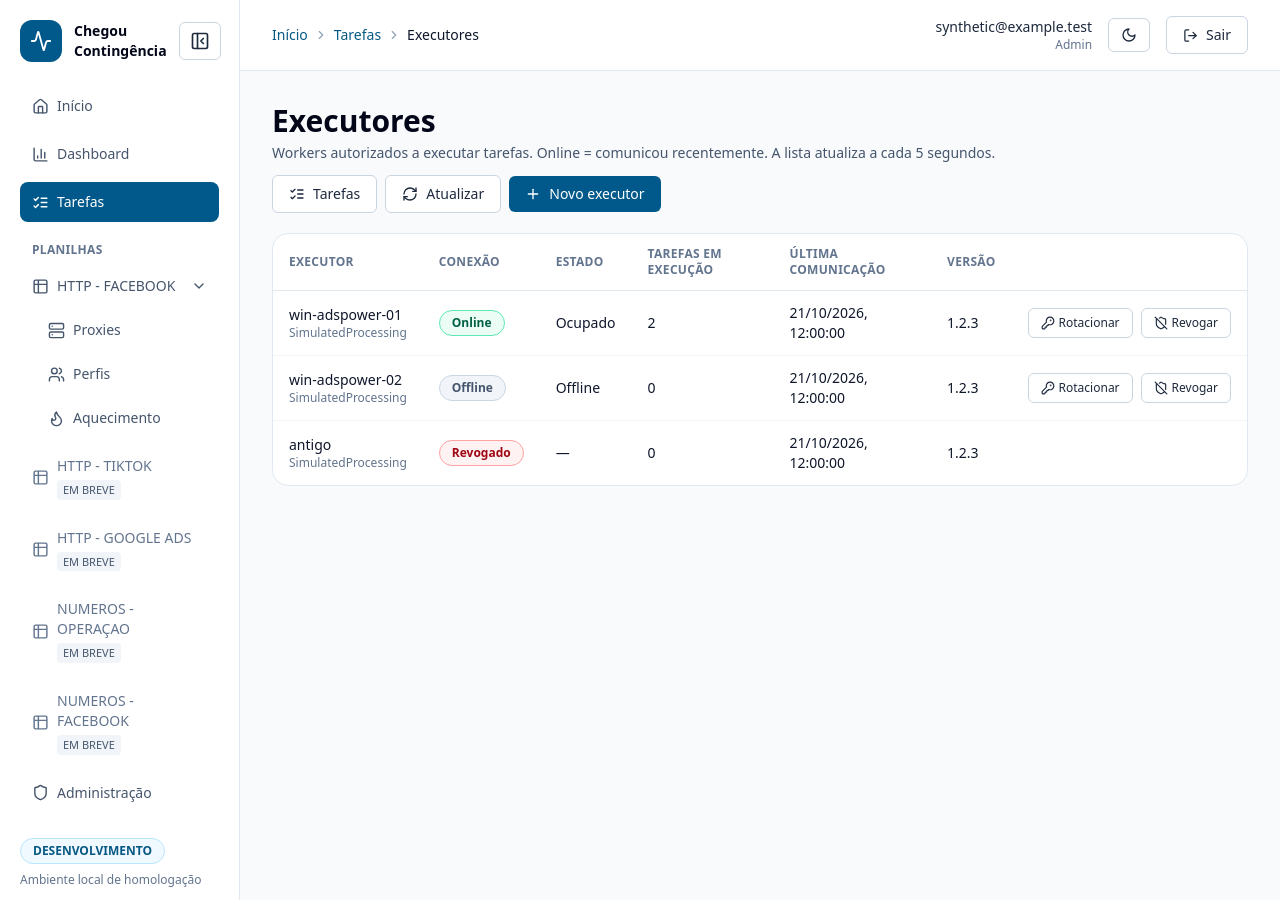
it: Admin cria executor e a credencial aparece uma única vez, só na memória da tela
Check: the table is shown, box [273, 234, 1247, 485]
Click the button "Novo executor".
click(585, 194)  # box [509, 176, 661, 212]
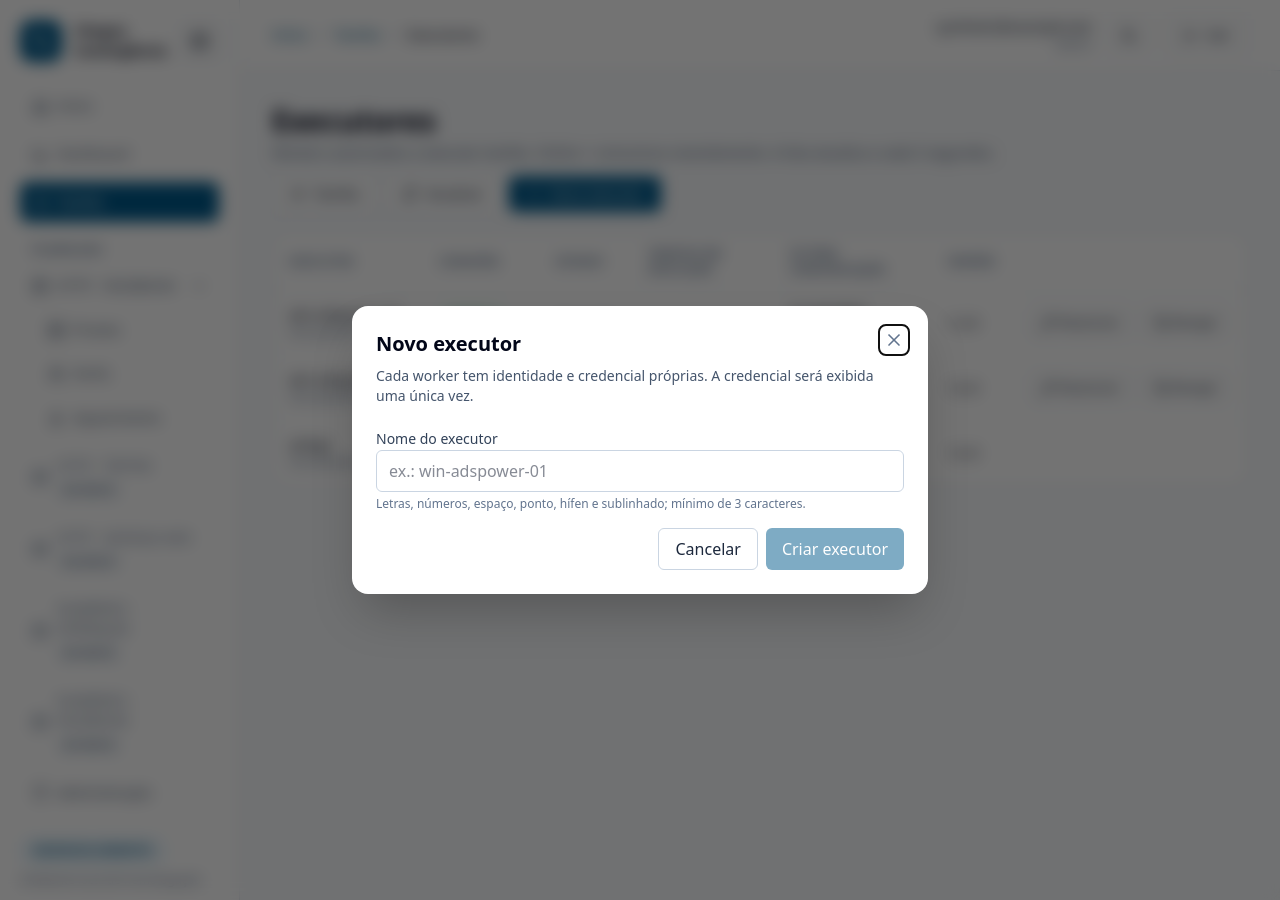
Check: the button "Criar executor" is disabled, box [766, 528, 904, 570]
Type "novo-worker" into the field labelled "Nome do executor".
click(640, 471); type("novo-worker")  # box [376, 450, 904, 492]
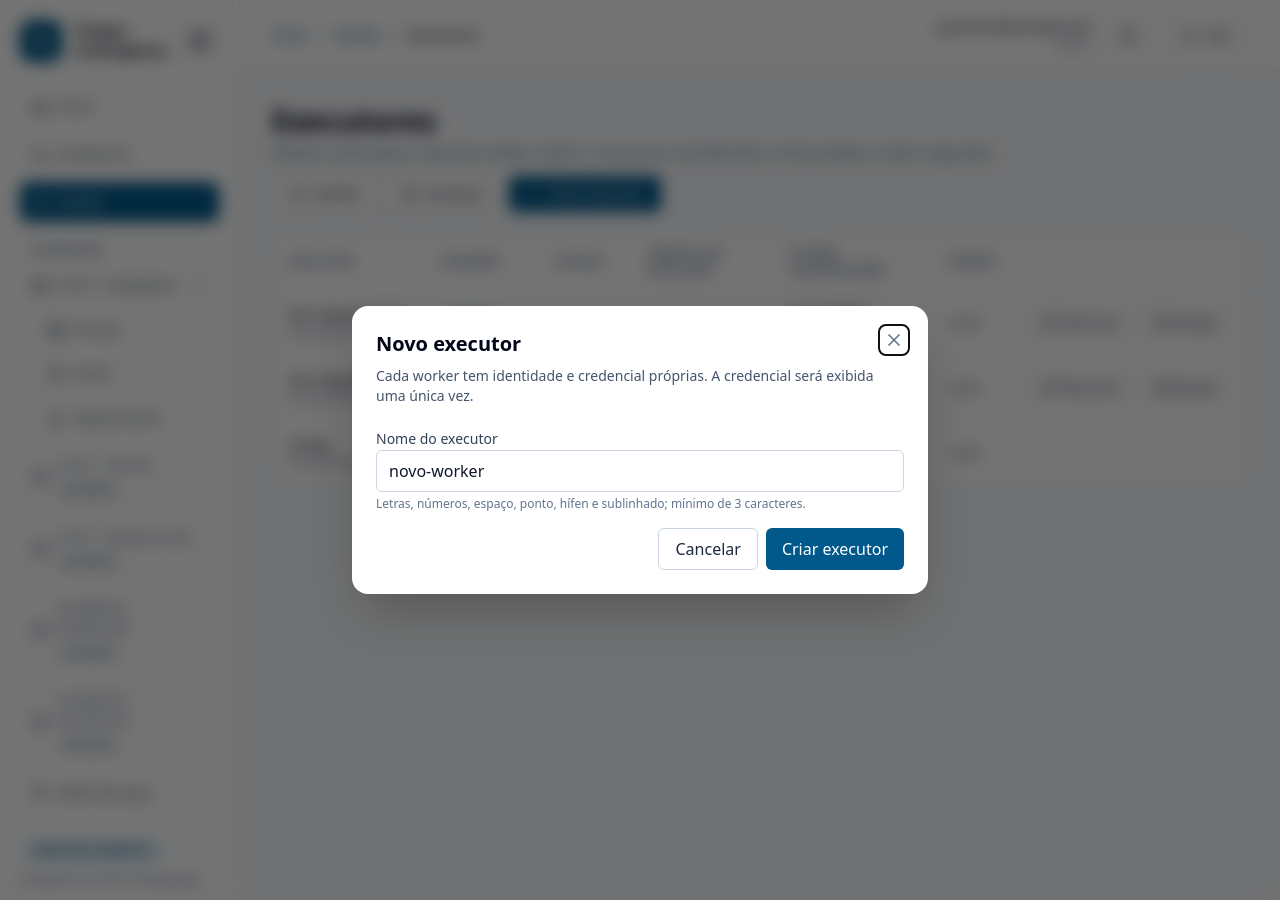
Click the button "Criar executor".
click(835, 549)  # box [766, 528, 904, 570]
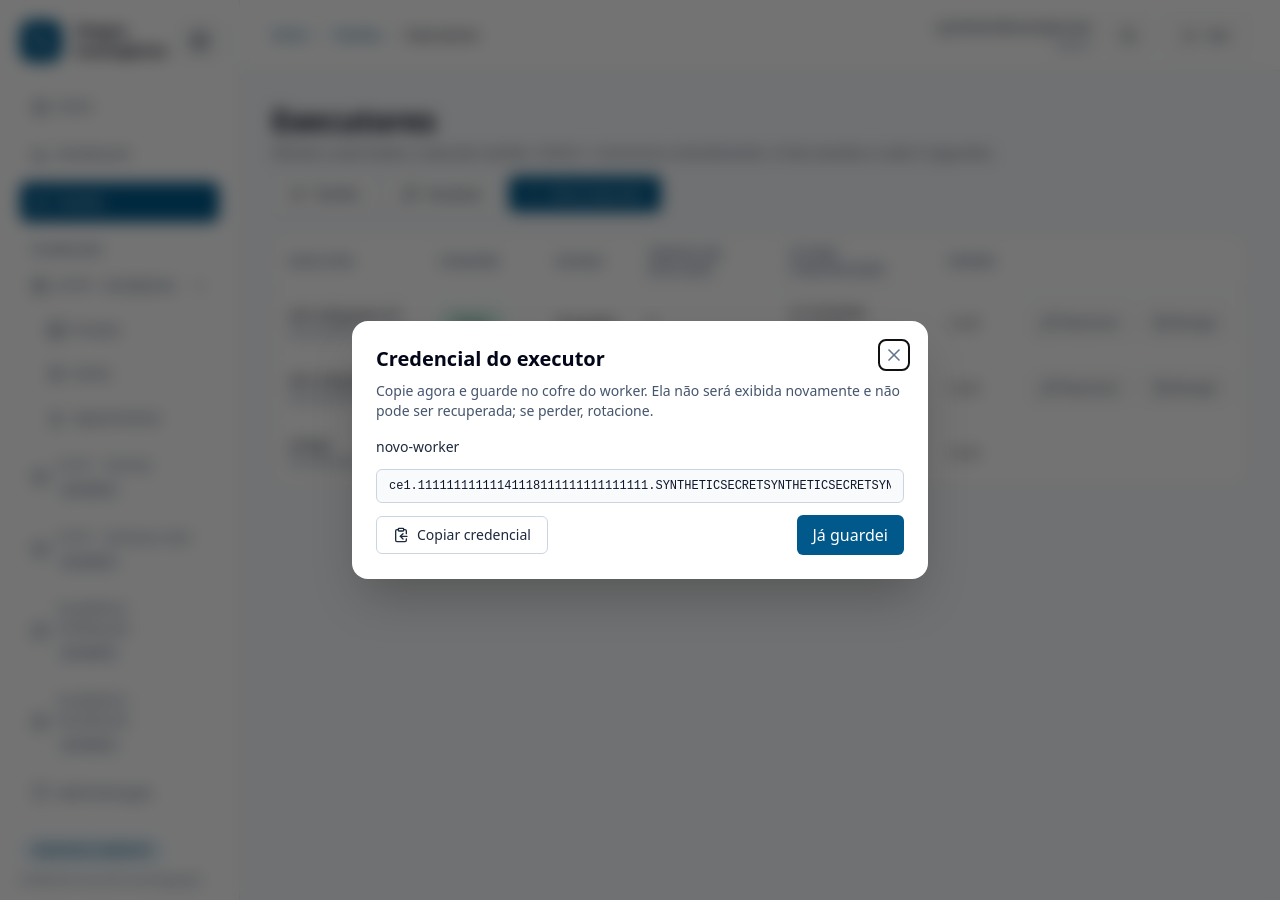
Check: the field named "Credencial" holds "ce1.11111111111141118111111111111111.SYNTHETICSECRETSYNTHETICSECRETSYNTHETIC1", box [376, 469, 904, 503]
Click the button "Copiar credencial".
click(462, 535)  # box [376, 516, 548, 554]
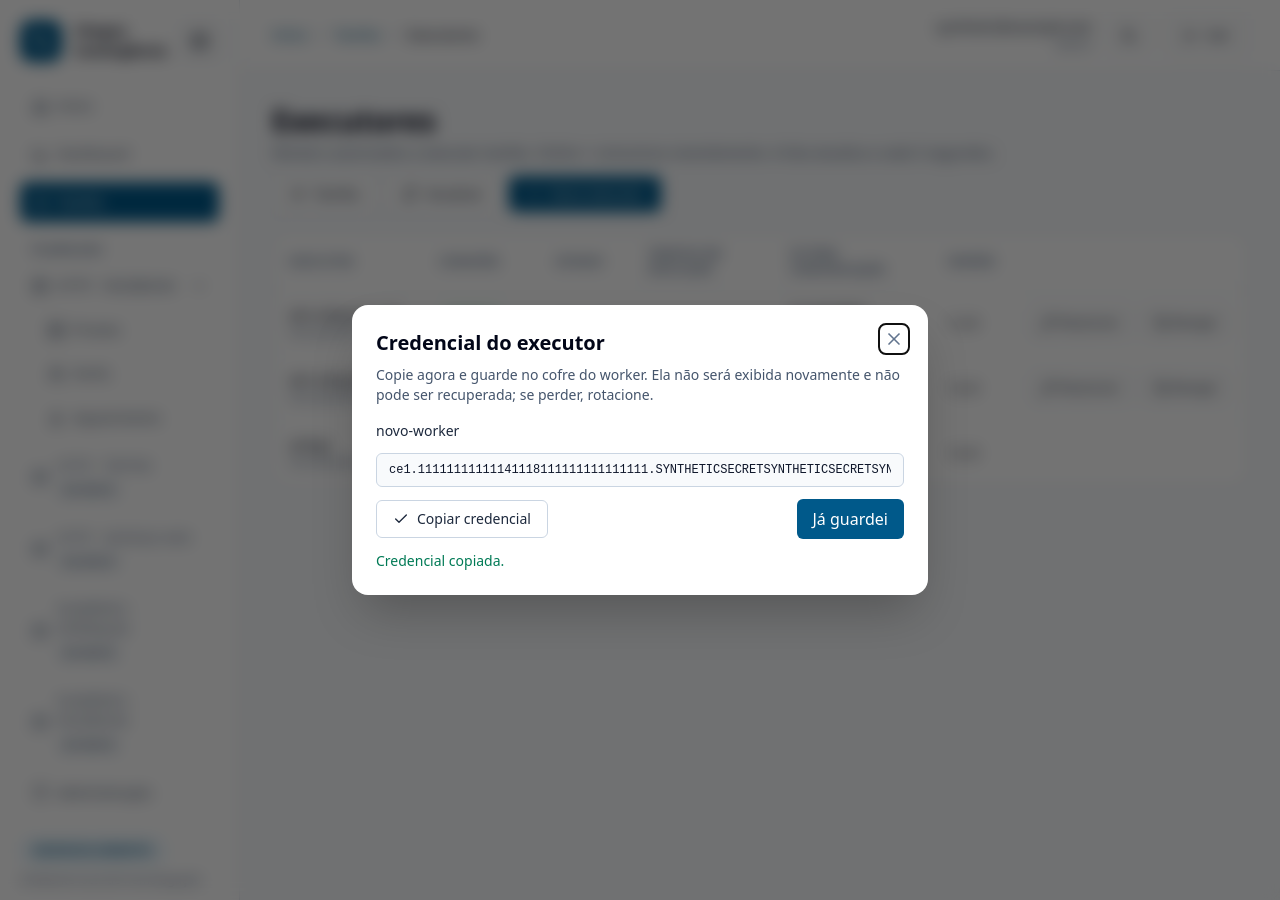
Click the button "Já guardei".
click(850, 519)  # box [796, 499, 904, 539]
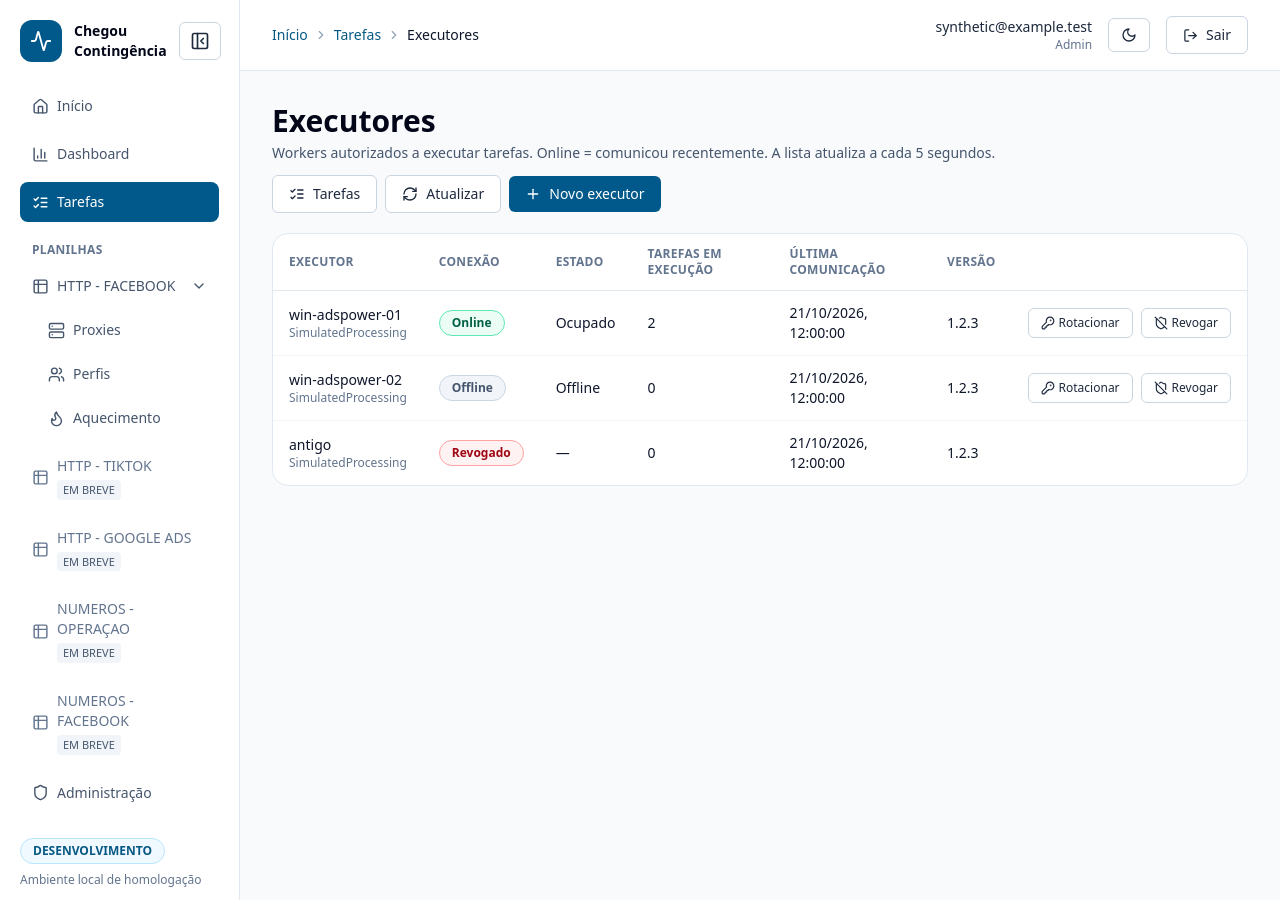
Check: the text "ce1.11111111111141118111111111111111.SYNTHETICSECRETSYNTHETICSECRETSYNTHETIC1" is not shown
Check: the dialog is gone
